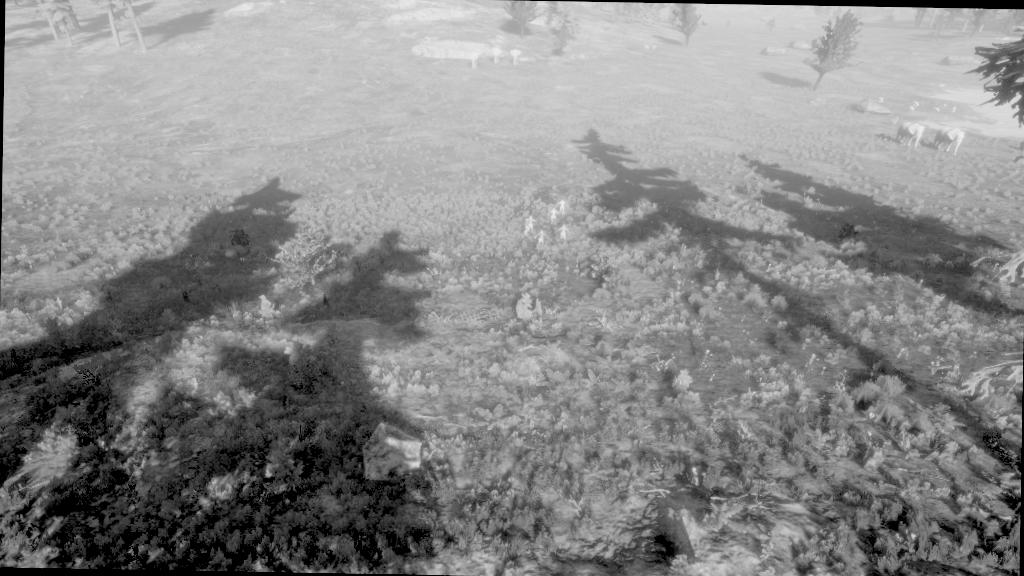elephant: (928, 115, 970, 162), (897, 114, 929, 156), (458, 42, 486, 78), (504, 44, 528, 73), (484, 40, 504, 72)
human: (518, 190, 590, 266)
